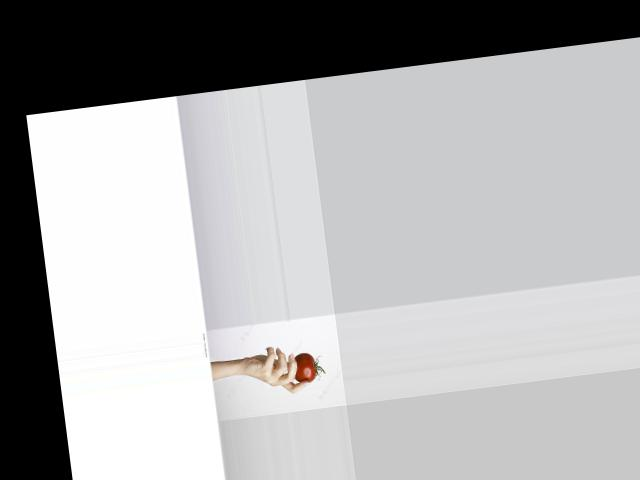tomato: (292, 350, 326, 383)
